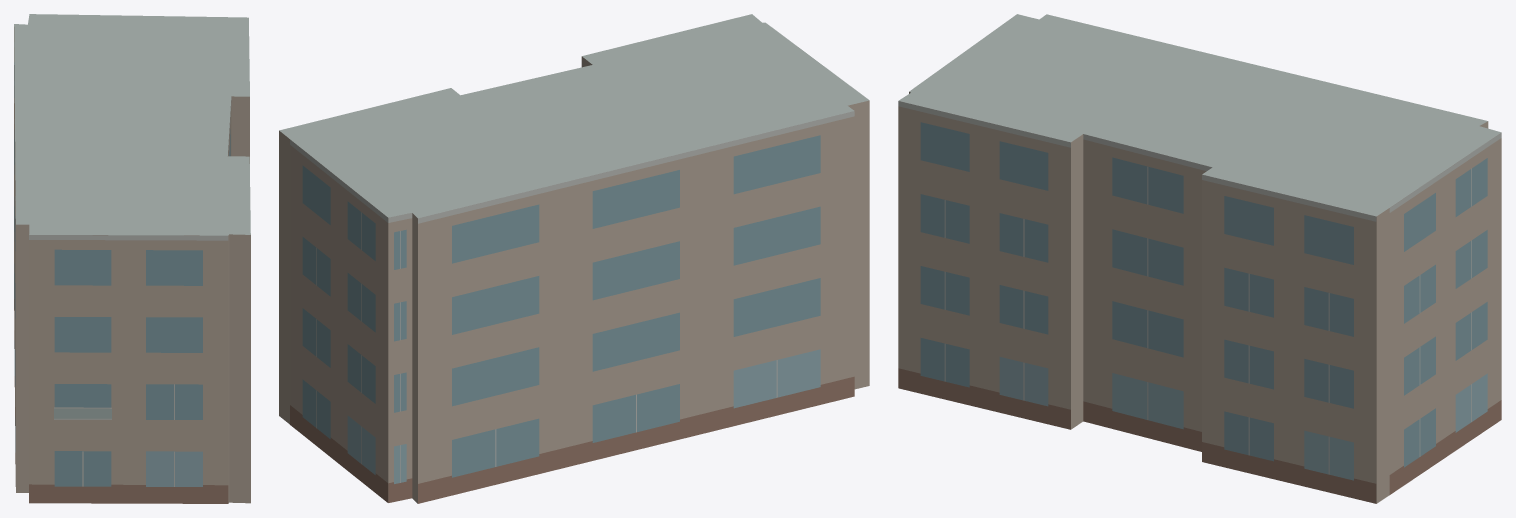
The model's file is survey-upis-32653346.glb.
3 renders of one model, left to right at view 1: azimuth 30°, elevation 25°; view 2: azimuth 150°, elevation 25°; view 3: azimuth 270°, elevation 25°, orthographic. The views are drawn at different scales.
Visible parts, largest first — view 1: survey-upis-32653346.tmp; view 2: survey-upis-32653346.tmp; view 3: survey-upis-32653346.tmp.
Part boxes in pixels (x1=…): survey-upis-32653346.tmp: x1=14, y1=14, x2=250, y2=503; survey-upis-32653346.tmp: x1=279, y1=14, x2=869, y2=503; survey-upis-32653346.tmp: x1=898, y1=14, x2=1501, y2=503.
Bounding box in the file's own units: 19.65 × 13 × 24.75.
